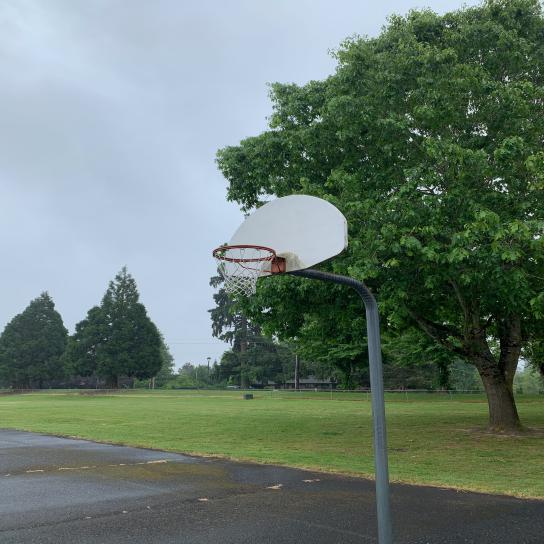basketball-hoop: (211, 244, 277, 297)
